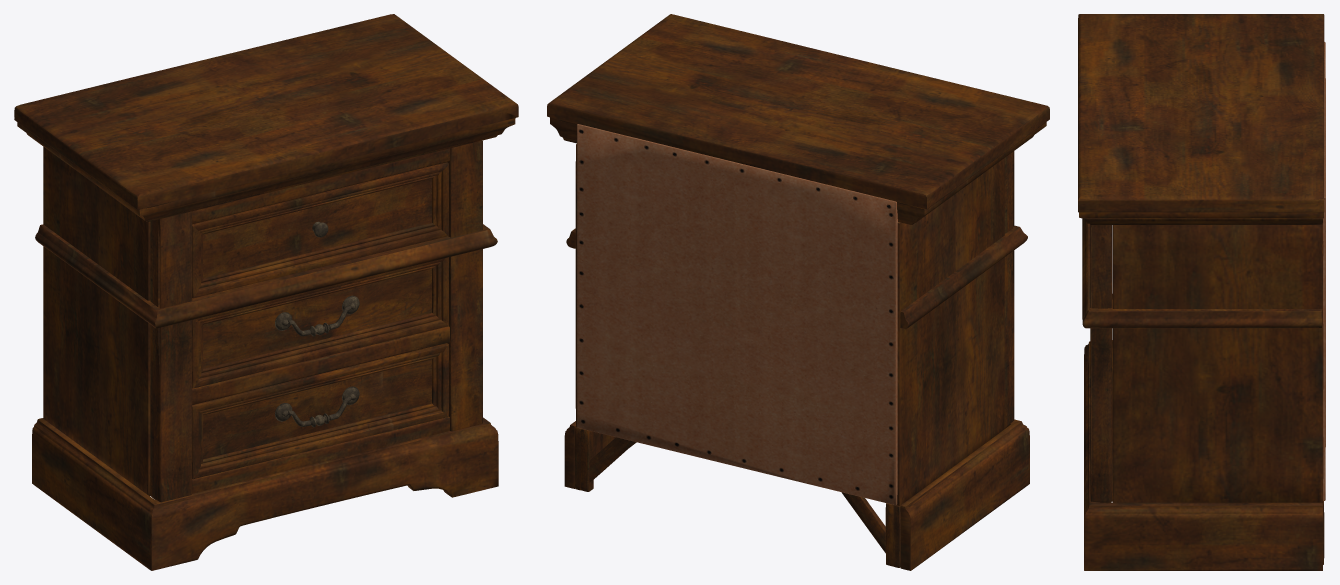
Rendered from drawer.dae.
3 views of the same model, side by side, from view 1: azimuth 30°, elevation 25°; view 2: azimuth 150°, elevation 25°; view 3: azimuth 270°, elevation 25° (orthographic).
Visible parts, largest first — view 1: Component (×35); view 2: Component (×14); view 3: Component (×20).
Part boxes in pixels (left/top/right/bottom): Component (×35): left=14, top=14, right=518, bottom=570; Component (×14): left=547, top=14, right=1049, bottom=570; Component (×20): left=1078, top=14, right=1325, bottom=570.
Size of the model in its own units: 31.61 by 17.82 by 30.25.
